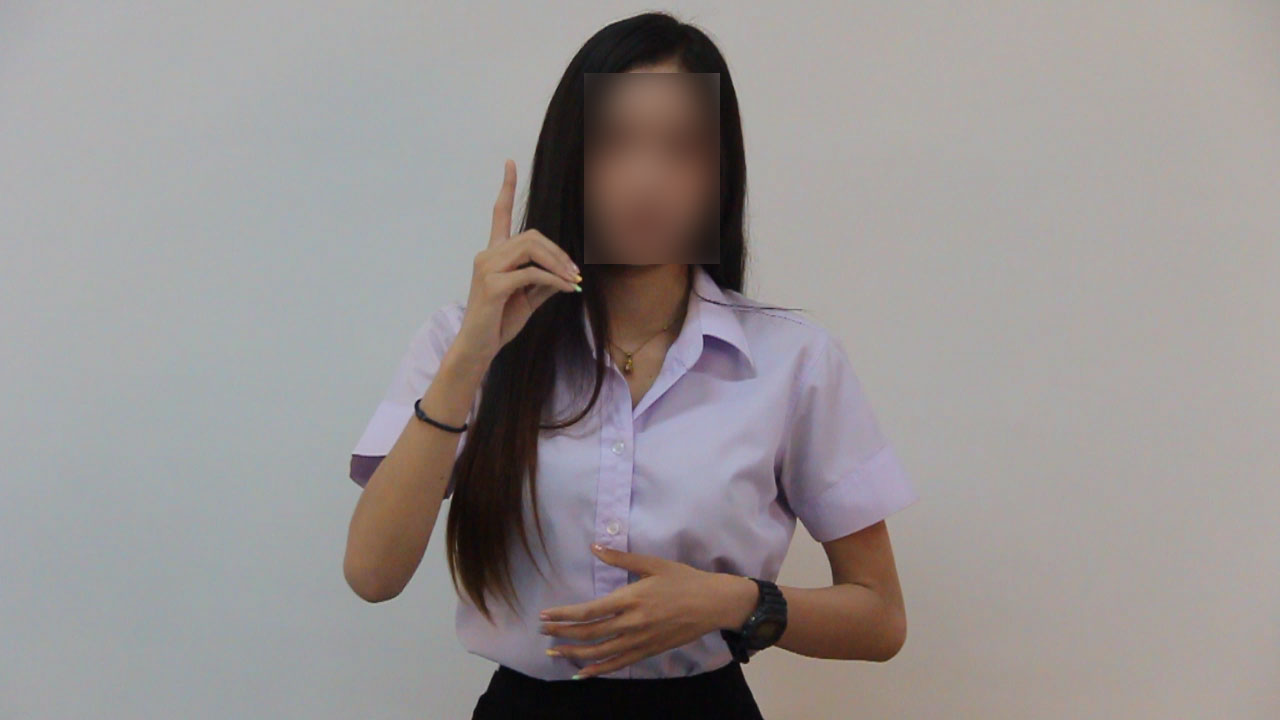dor: (441, 149, 587, 355)
